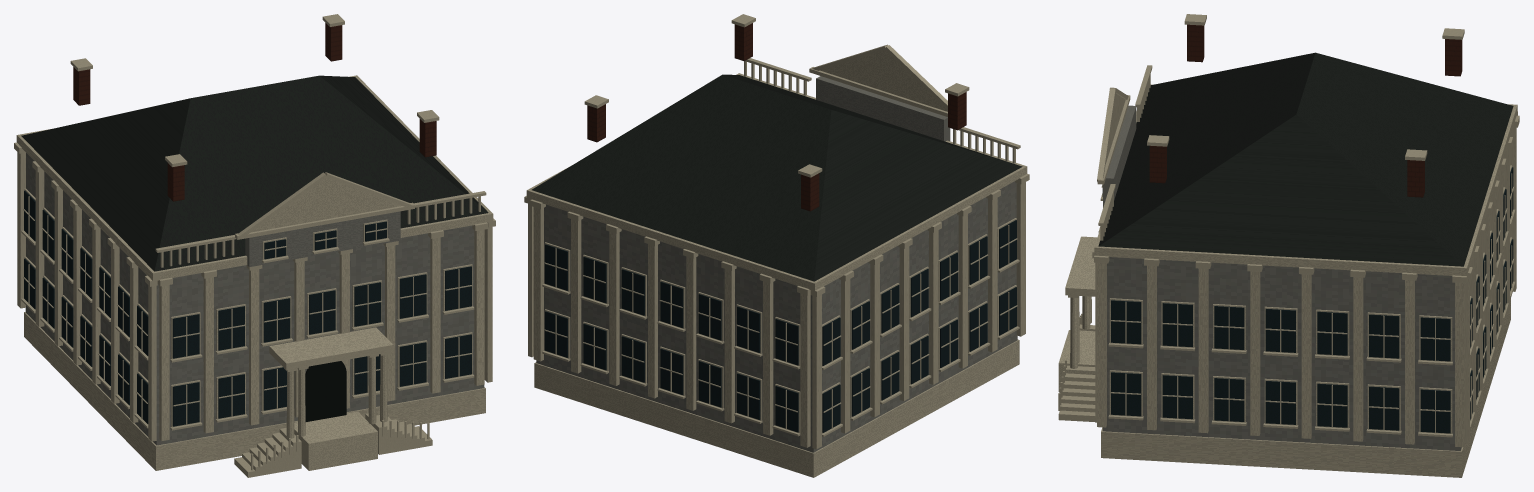
The picture shows the model from 3 angles, left to right: view 1: azimuth 30°, elevation 25°; view 2: azimuth 150°, elevation 25°; view 3: azimuth 270°, elevation 25°; orthographic projection. The views are drawn at different scales.
Visible parts, largest first — view 1: schielandshuis-2, schielandshuis-1, schielandshuis-0, schielandshuis-3, schielandshuis-5, schielandshuis-4; view 2: schielandshuis-2, schielandshuis-1, schielandshuis-0, schielandshuis-3, schielandshuis-5; view 3: schielandshuis-1, schielandshuis-2, schielandshuis-0, schielandshuis-3, schielandshuis-5.
Boxes of the visible parts, box(x1,y1,x2,y2) form: schielandshuis-2: box(14, 14, 495, 477); schielandshuis-1: box(21, 75, 488, 271); schielandshuis-0: box(25, 153, 484, 445); schielandshuis-3: box(24, 190, 471, 426); schielandshuis-5: box(73, 23, 436, 201); schielandshuis-4: box(305, 361, 346, 421); schielandshuis-2: box(524, 14, 1029, 477); schielandshuis-1: box(532, 74, 1022, 281); schielandshuis-0: box(536, 76, 1017, 452); schielandshuis-3: box(545, 220, 1016, 432); schielandshuis-5: box(587, 23, 966, 211); schielandshuis-1: box(1098, 52, 1513, 266); schielandshuis-2: box(1058, 14, 1519, 477); schielandshuis-0: box(1102, 105, 1461, 450); schielandshuis-3: box(1102, 167, 1513, 433); schielandshuis-5: box(1149, 24, 1462, 197).
Size of the model in its own units: 30.58 by 23.3 by 31.94.
Materials: 6 (6 with a texture image).
